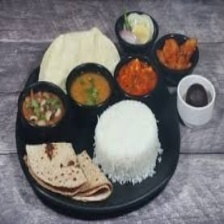rice: (94, 100, 160, 182)
